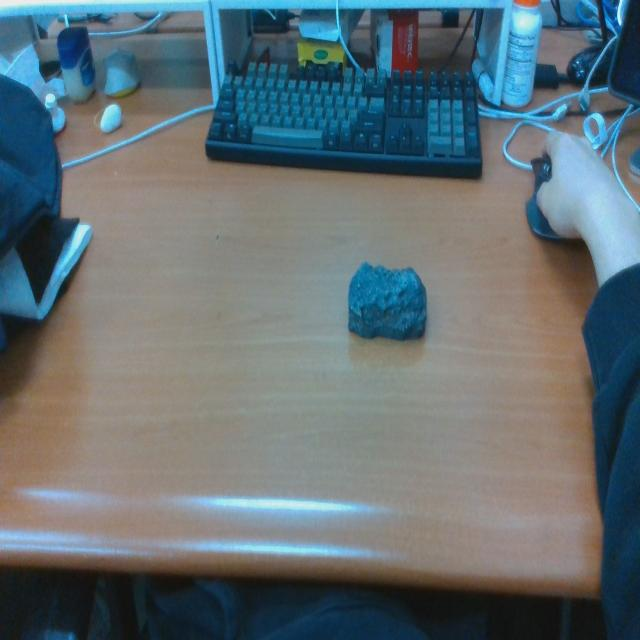stone: (347, 261, 427, 343)
